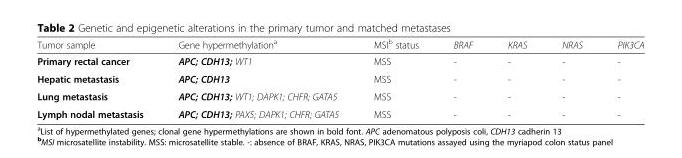table: (36, 37, 643, 119)
table column: (160, 37, 355, 119), (36, 37, 160, 119), (355, 37, 435, 119), (543, 37, 599, 119), (435, 37, 489, 119), (489, 37, 543, 119), (599, 37, 643, 119)
table column header: (36, 37, 643, 52)
table row: (36, 69, 643, 87), (36, 52, 643, 69), (36, 87, 643, 104), (36, 37, 643, 52), (36, 104, 643, 119)
